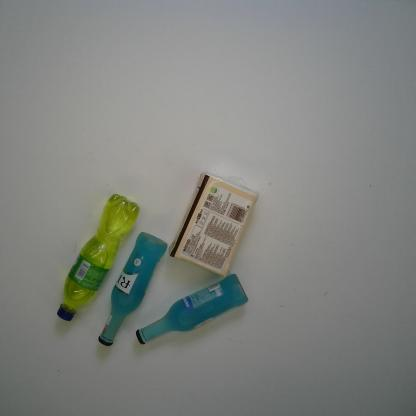Alcohol: (135, 273, 248, 346), (97, 232, 168, 347)
Drink: (57, 192, 139, 322)
Tissue: (168, 171, 260, 279)
